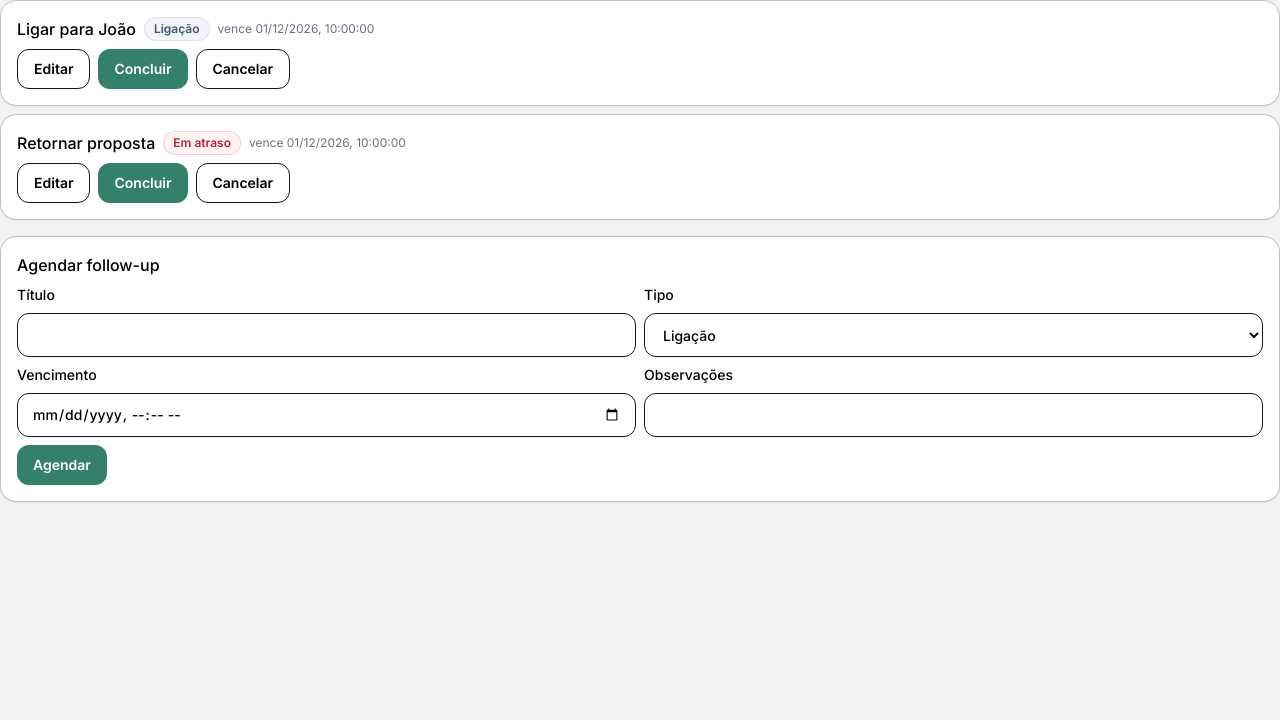
Test case: cliente 360 follow-ups › lista pendências e permite concluir sem expor stack trace
Expected: the text "Ligar para João" is shown, [17,17,136,41]
Expected: the text "Em atraso" is shown, [163,131,241,155]
Click the button "Concluir" below "Ligar para João": [143, 69] box [98,49,188,89]
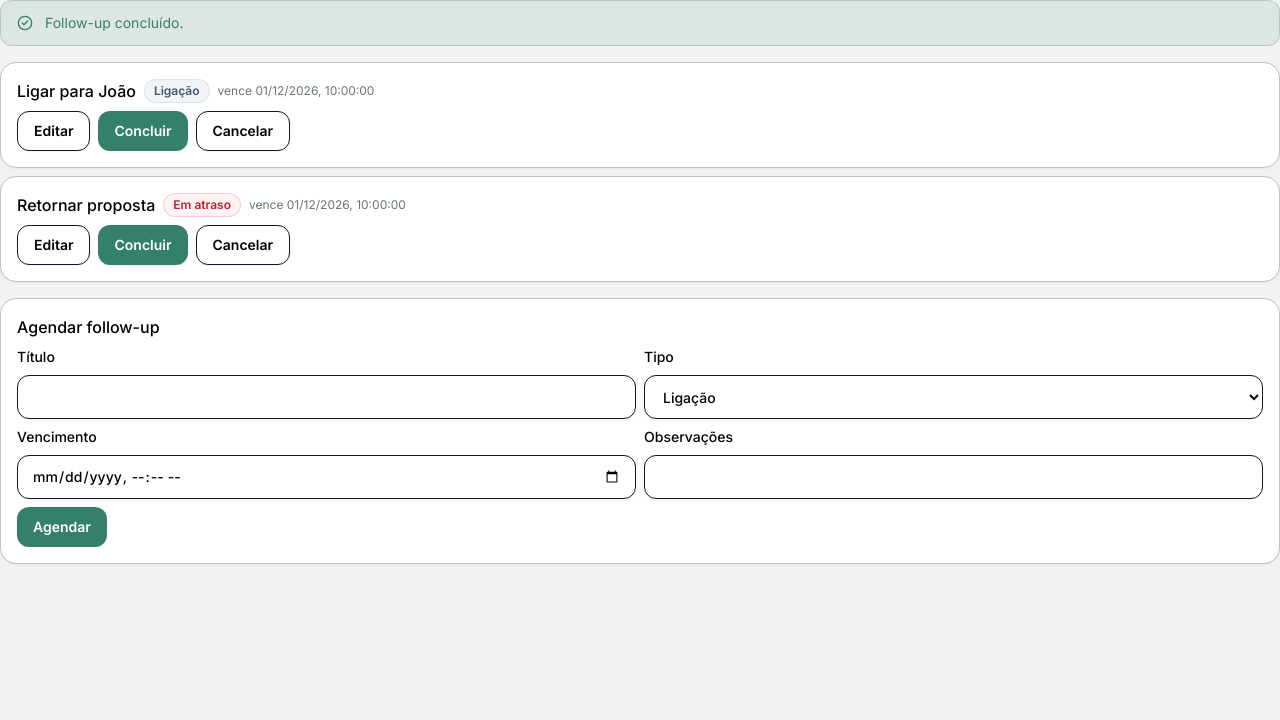
Result: the text "Follow-up concluído." is shown at [45,13,183,33]
